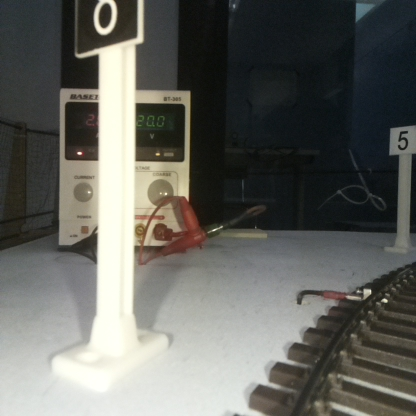white-info-5: (390, 127, 416, 250)
